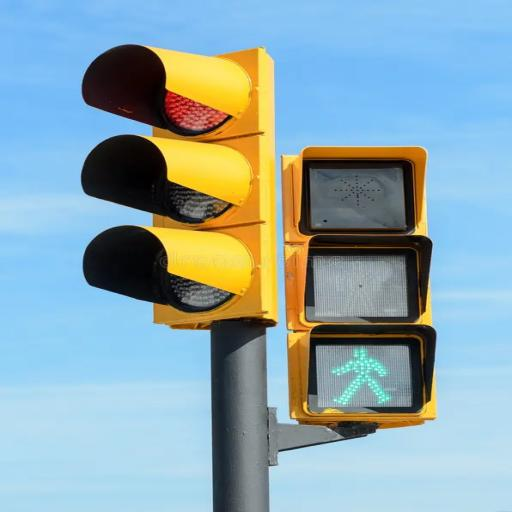traffic light: (79, 42, 278, 328), (280, 145, 436, 430)
